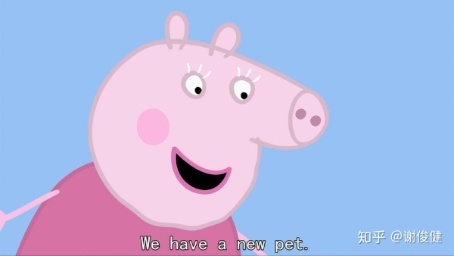Peppa: (20, 16, 329, 255)
